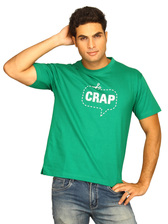clothoes: (30, 57, 164, 187)
